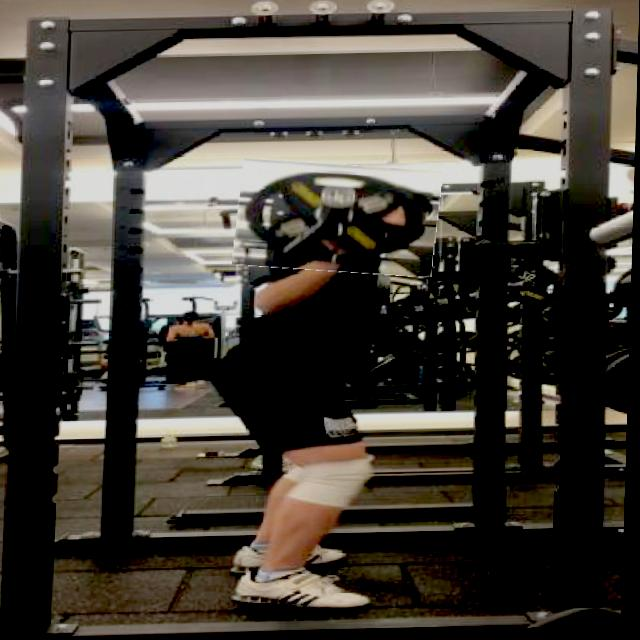barbell: (236, 161, 443, 280)
